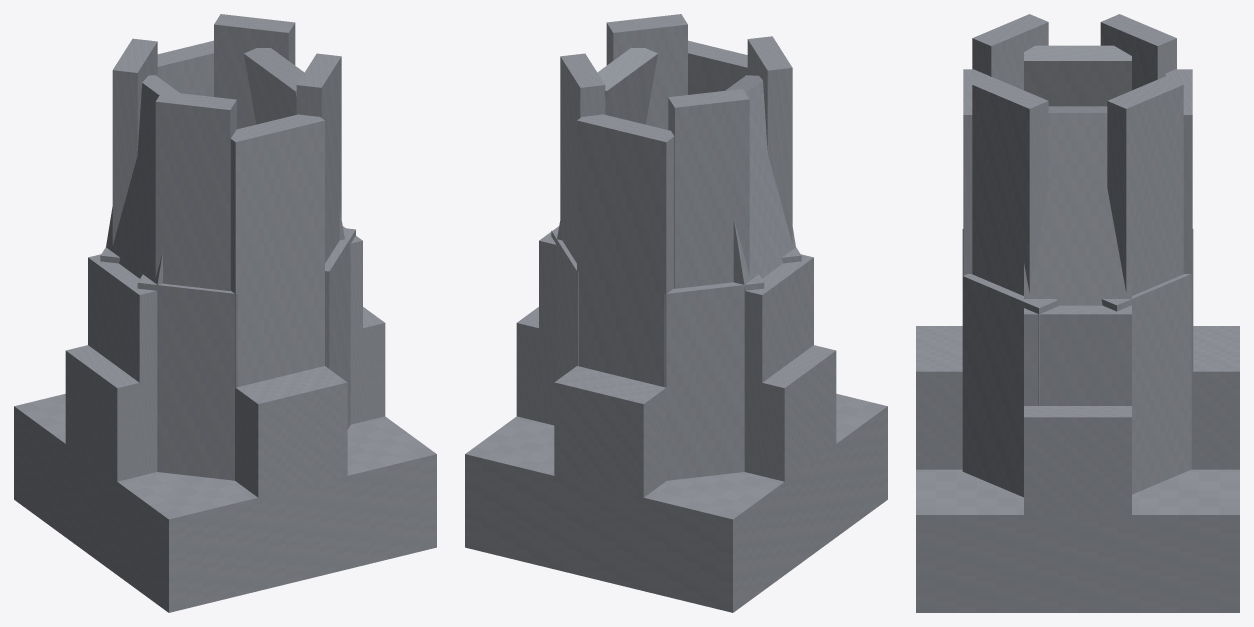
The model's file is electric_blast_furnace_east.obj.
3 renders of one model, left to right at view 1: azimuth 30°, elevation 25°; view 2: azimuth 150°, elevation 25°; view 3: azimuth 270°, elevation 25°, orthographic. The views are drawn at different scales.
Visible parts, largest first — view 1: mesh; view 2: mesh; view 3: mesh.
Part boxes in pixels (x1,y1,x2,y2): mesh: (14,14,436,612); mesh: (465,14,887,612); mesh: (916,14,1239,612).
Size of the model in its own units: 3 by 4.94 by 3.
